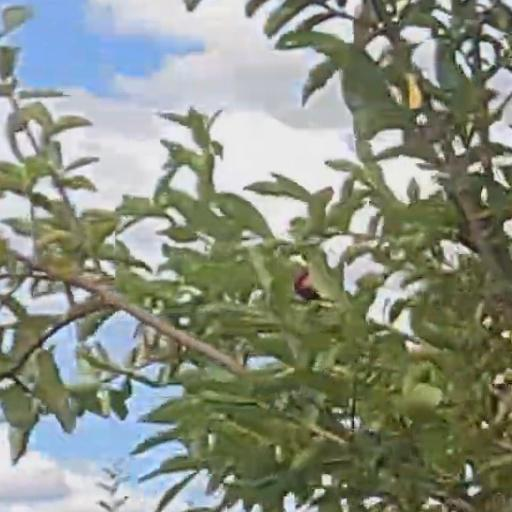acerola_vermelha: (296, 274, 315, 299)
